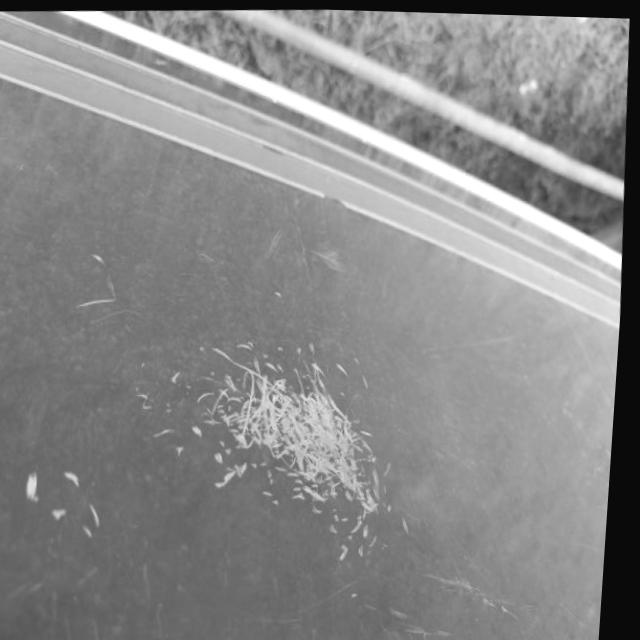Paint-Crack: (130, 331, 396, 566), (19, 462, 104, 540)
